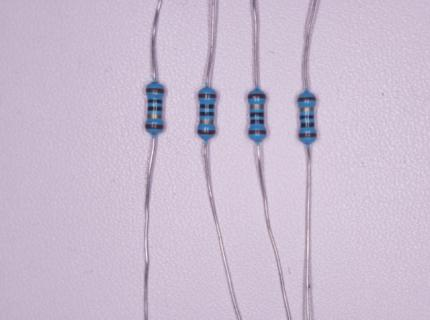Black band: (147, 106, 163, 112), (148, 98, 163, 104), (250, 112, 264, 118), (199, 111, 215, 116), (200, 104, 215, 109), (250, 119, 265, 124), (300, 123, 314, 128), (300, 115, 314, 120)
Brown band: (297, 96, 317, 102), (145, 124, 164, 130), (145, 88, 165, 93), (298, 133, 317, 138), (197, 129, 216, 134), (247, 94, 266, 99), (248, 130, 267, 134), (198, 94, 217, 98)
Gold band: (250, 104, 264, 110), (300, 107, 314, 113), (147, 114, 162, 119), (200, 119, 214, 124)
